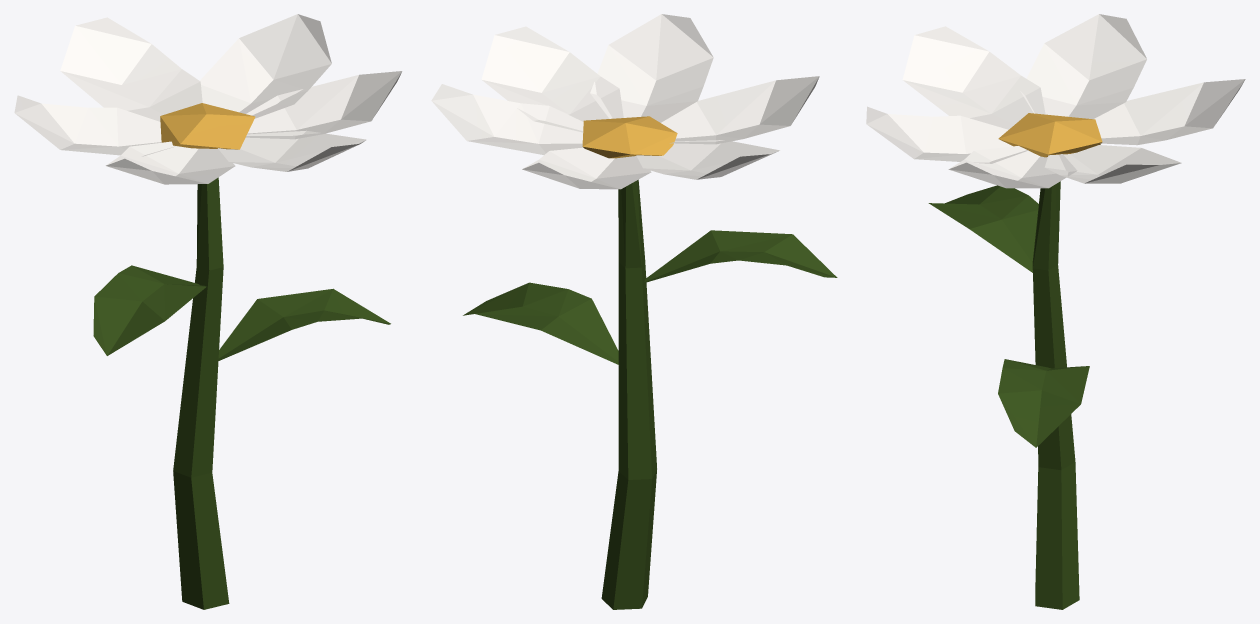
The model's file is Flower_01.fbx.
3 renders of one model, left to right at view 1: azimuth 30°, elevation 25°; view 2: azimuth 150°, elevation 25°; view 3: azimuth 270°, elevation 25°, orthographic.
Visible parts, largest first — view 1: Flower_01; view 2: Flower_01; view 3: Flower_01.
Part boxes in pixels (bbox=[...]): Flower_01: bbox=[14, 14, 402, 609]; Flower_01: bbox=[431, 14, 837, 609]; Flower_01: bbox=[866, 14, 1245, 609].
Size of the model in its own units: 27.64 by 39.4 by 26.68.
